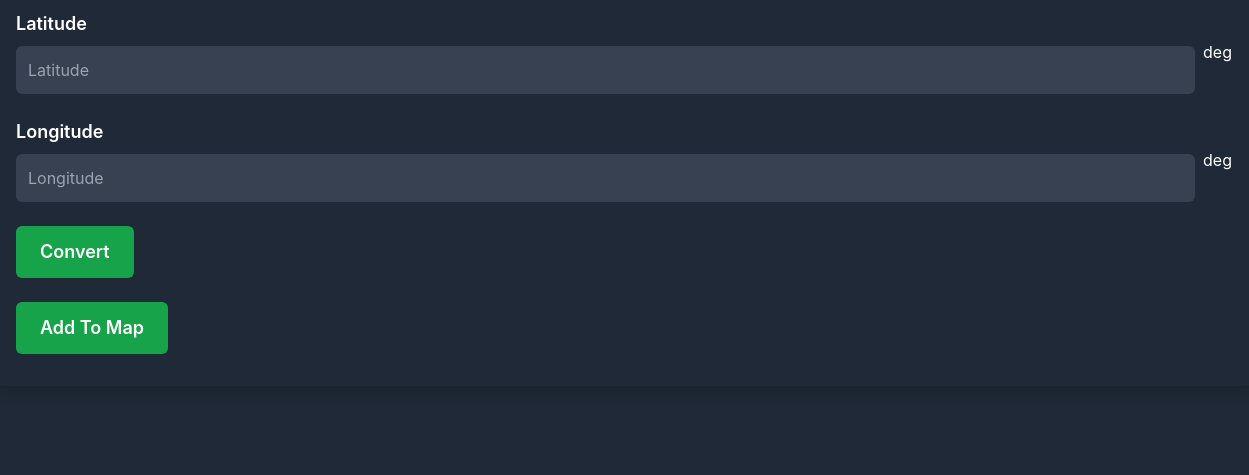
Scenario: DdToDmsForm › converts DD to DMS on submit
# Simulate user input for latitude and longitude
Type "12.3456" into the number field with placeholder "Latitude" at (606, 70), box x1=16 y1=46 x2=1195 y2=94
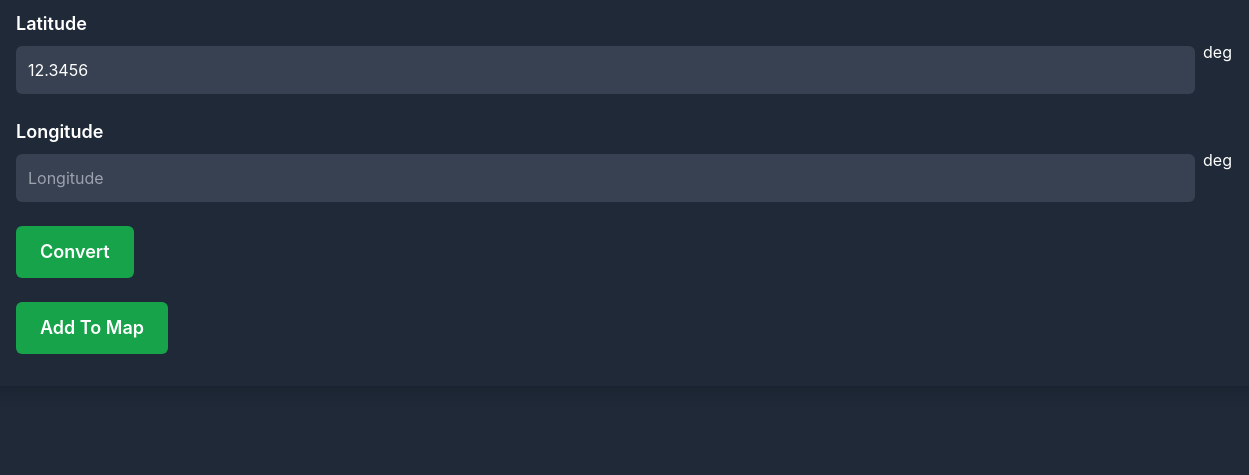
Type "65.4321" into the number field with placeholder "Longitude" at (606, 178), box x1=16 y1=154 x2=1195 y2=202
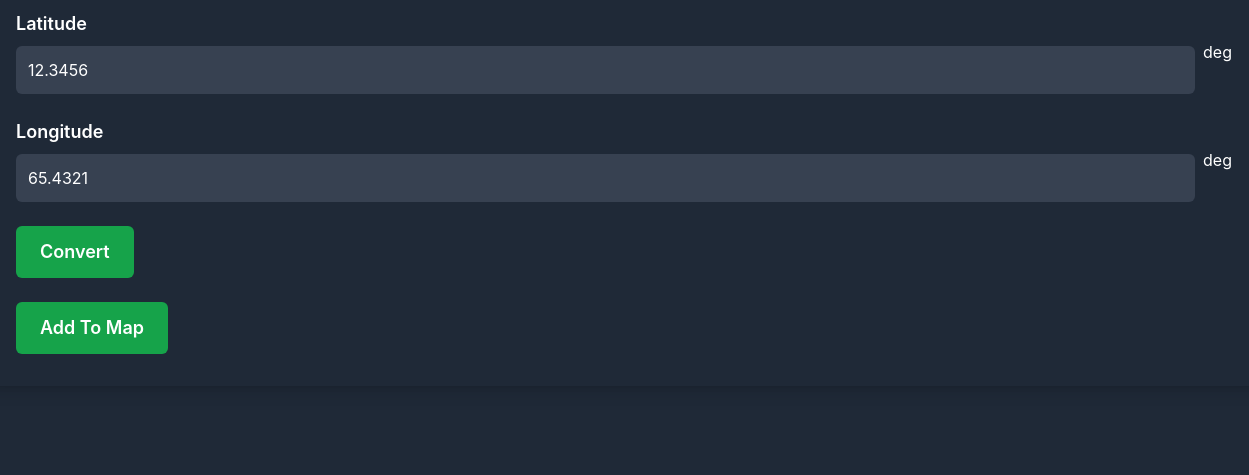
# Simulate form submission
Click the button "Convert" at (75, 252), box x1=16 y1=226 x2=134 y2=278
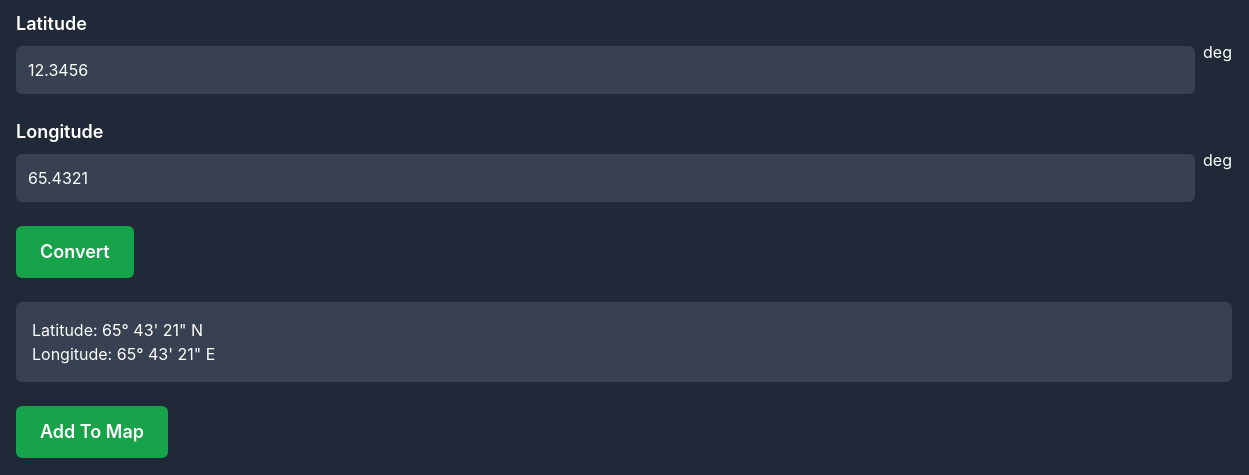
Result: the text "Latitude: 65° 43' 21\" N" is shown at x1=32 y1=320 x2=203 y2=340
Result: the text "Longitude: 65° 43' 21\" E" is shown at x1=32 y1=344 x2=215 y2=364
